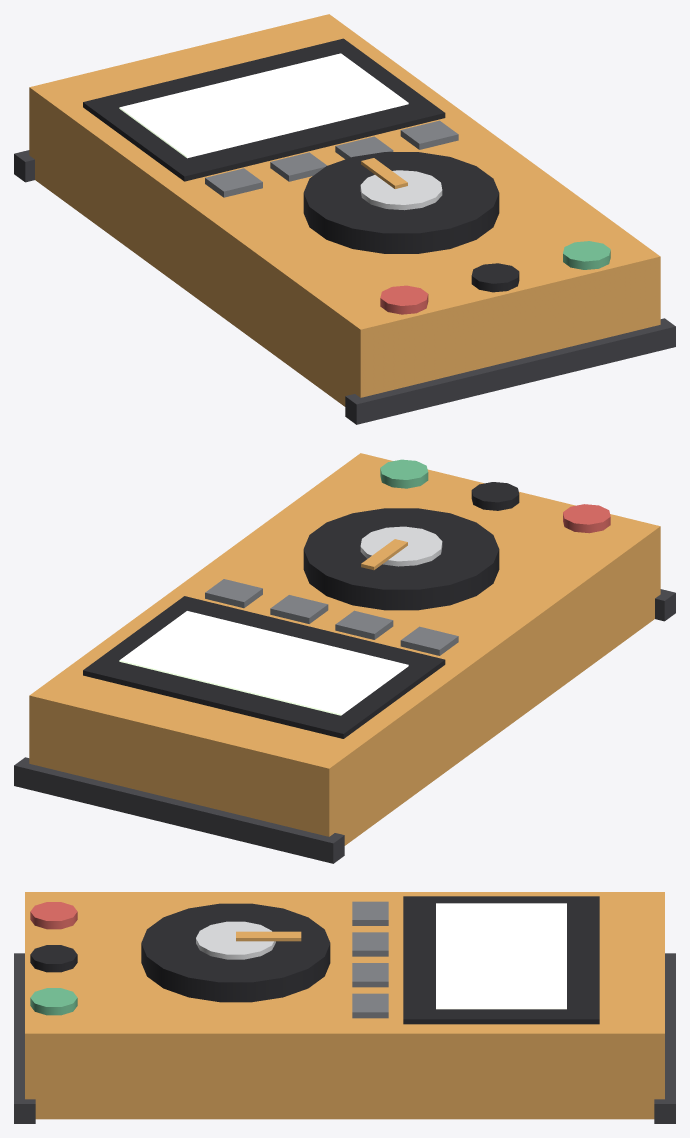
The model's file is tool-multimeter.glb.
The picture shows the model from 3 angles, top to bottom: view 1: azimuth 30°, elevation 25°; view 2: azimuth 150°, elevation 25°; view 3: azimuth 270°, elevation 25°; orthographic projection. The views are drawn at different scales.
Visible parts, largest first — view 1: body, screen; view 2: body, screen; view 3: body, screen.
Part boxes in pixels (<box>): body: <box>14,14,675,424</box>; screen: <box>119,53,408,158</box>; body: <box>14,453,675,863</box>; screen: <box>119,611,408,715</box>; body: <box>14,892,675,1123</box>; screen: <box>436,903,566,1009</box>.
Size of the model in its own units: 0.098 by 0.0345 by 0.182.
